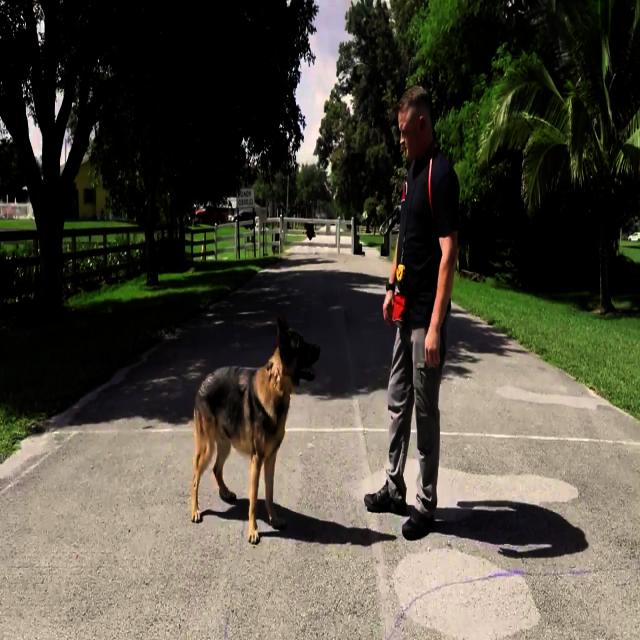Unleashed_Dog: (190, 316, 410, 543)
